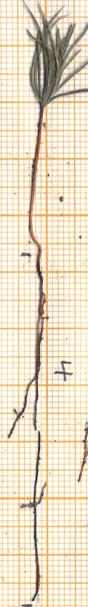flower: (16, 0, 88, 107)
root: (5, 255, 54, 603)
stem: (25, 111, 49, 255)
